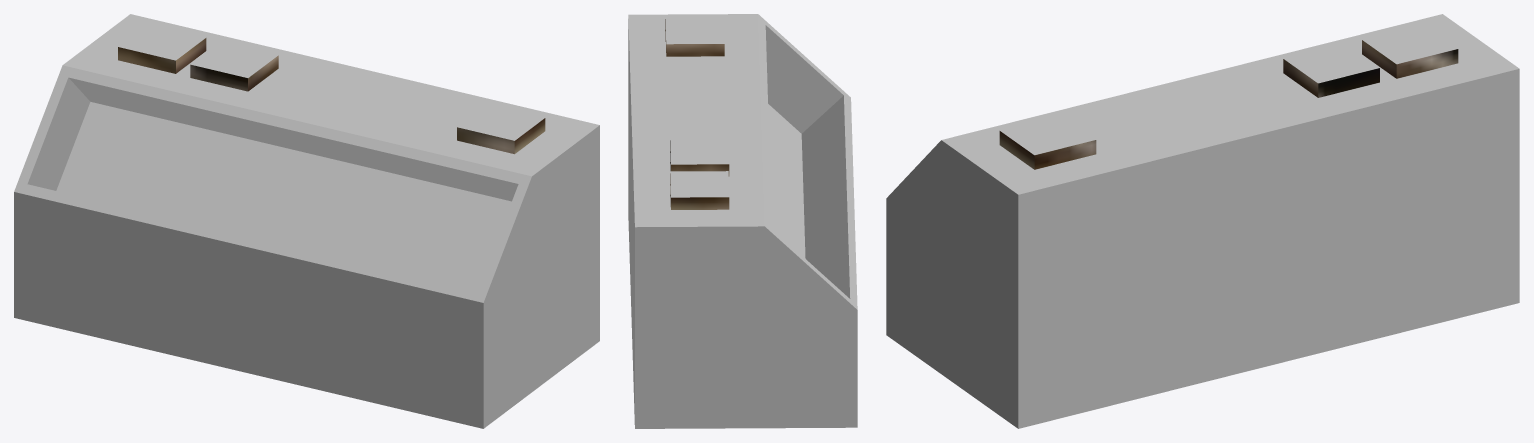
Rendered from ControlCentre.fbx.
The picture shows the model from 3 angles, left to right: view 1: azimuth 30°, elevation 25°; view 2: azimuth 150°, elevation 25°; view 3: azimuth 270°, elevation 25°; orthographic projection. The views are drawn at different scales.
Parts seen in each view (by area): view 1: Electricity Box; view 2: Electricity Box; view 3: Electricity Box.
Boxes of the visible parts, x1=… form: Electricity Box: x1=14, y1=14, x2=599, y2=428; Electricity Box: x1=628, y1=14, x2=857, y2=428; Electricity Box: x1=886, y1=14, x2=1519, y2=428.
Bounding box in the file's own units: 671 × 354 × 816.
